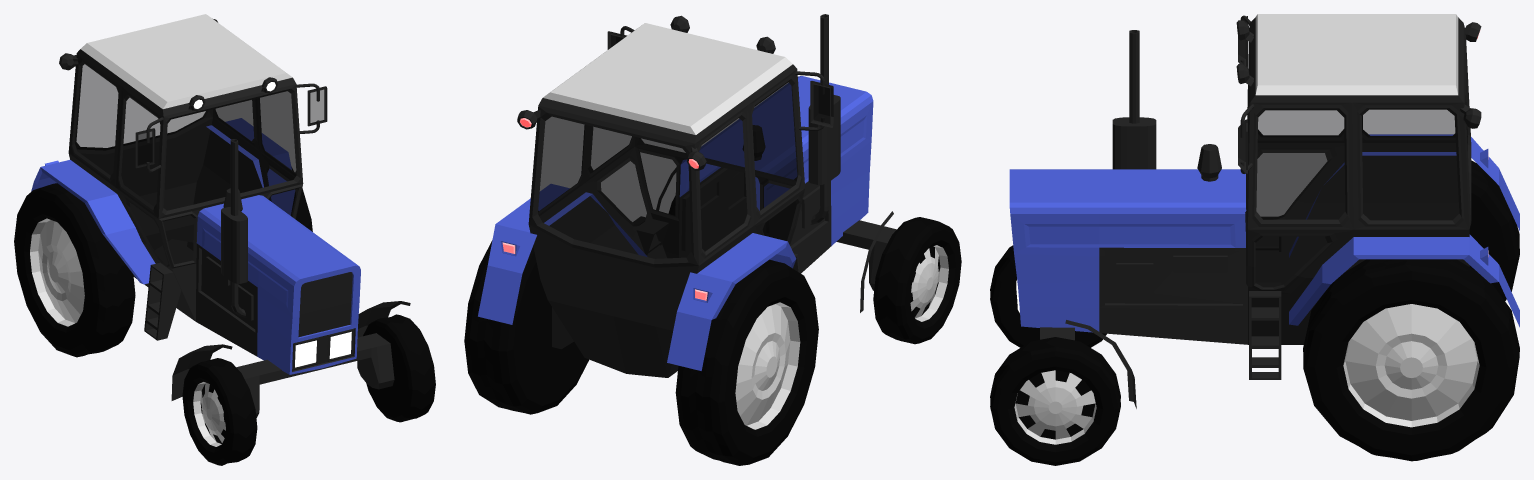
Rendered from low-poly_tractor.glb.
3 views of the same model, side by side, from view 1: azimuth 30°, elevation 25°; view 2: azimuth 150°, elevation 25°; view 3: azimuth 270°, elevation 25° (orthographic). The views are drawn at different scales.
Visible parts, largest first — view 1: Object_8, Object_5, Object_7, Object_2, Object_6, Object_3; view 2: Object_8, Object_5, Object_7, Object_6, Object_2; view 3: Object_8, Object_5, Object_6, Object_2, Object_7.
Boxes of the visible parts, x1,y1,x2,y2 form: Object_8: (59,19,410,418); Object_5: (14,168,435,465); Object_7: (75,64,324,264); Object_2: (31,118,360,374); Object_6: (30,14,292,446); Object_3: (193,82,351,367); Object_8: (517,14,896,377); Object_5: (464,196,961,465); Object_7: (538,35,829,258); Object_6: (543,23,948,429); Object_2: (478,76,873,370); Object_8: (1040,15,1481,408); Object_5: (990,160,1519,465); Object_6: (1014,14,1479,444); Object_2: (1009,134,1519,332); Object_7: (1256,110,1467,286).
Bounding box in the file's own units: 1.87 × 2.39 × 3.15.
